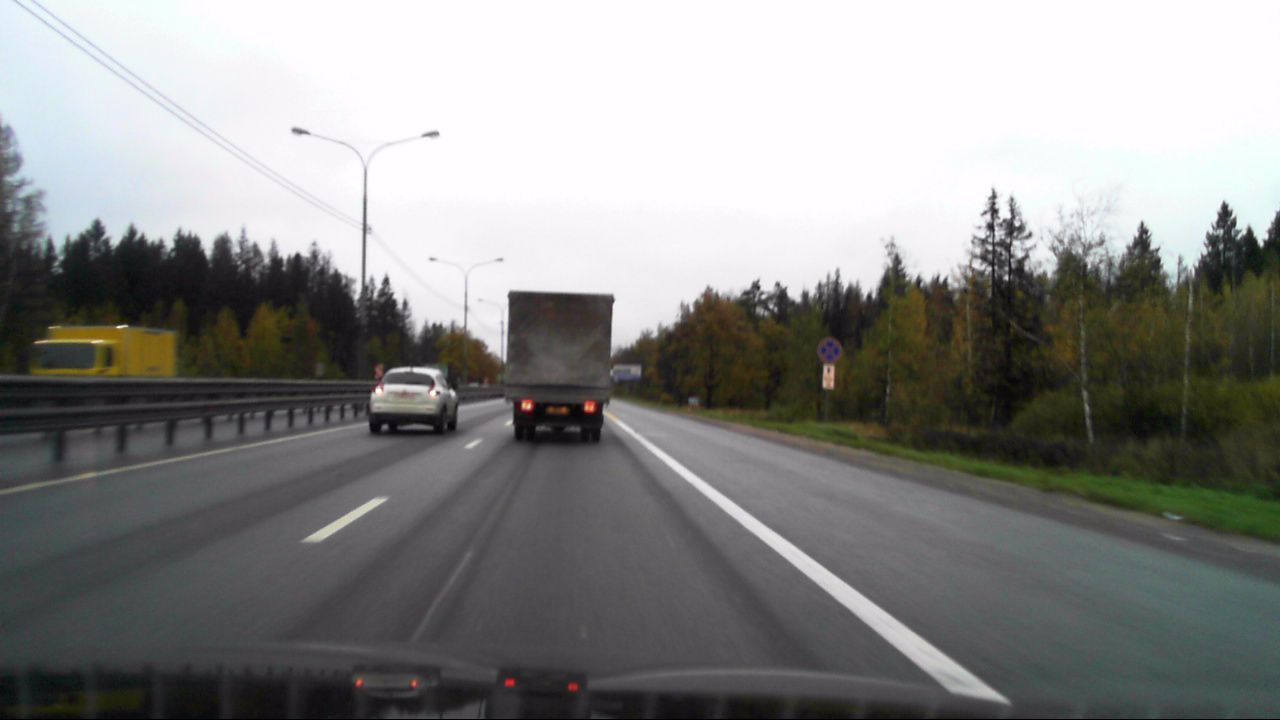No Parking: (817, 338, 842, 363)
